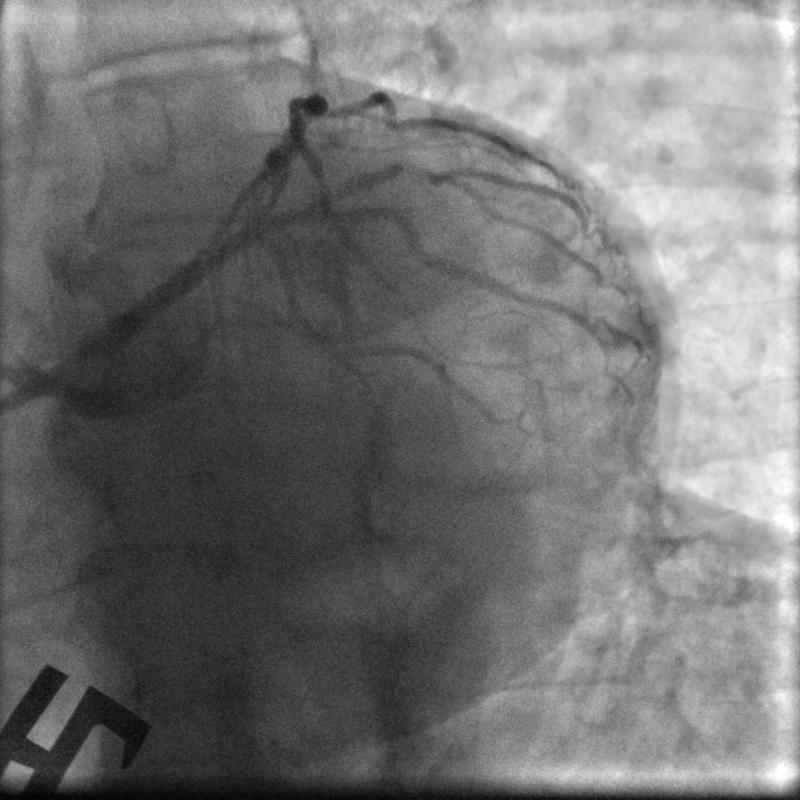Stenosis: (388, 157, 437, 187)
